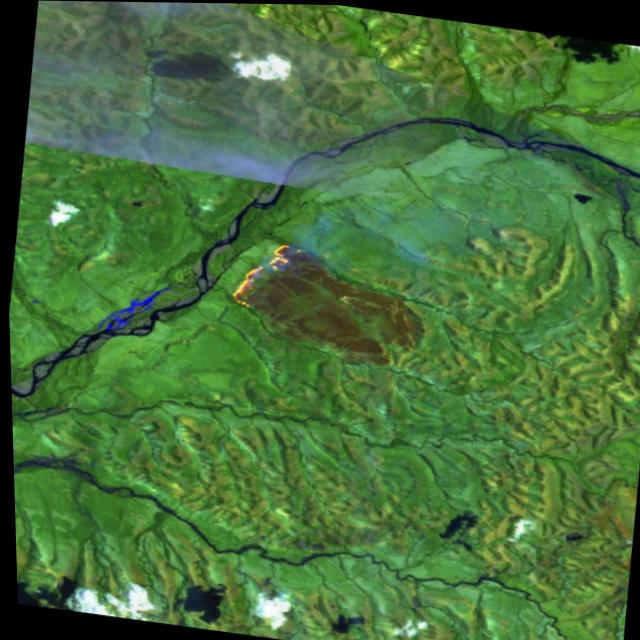fire: (208, 228, 431, 369)
